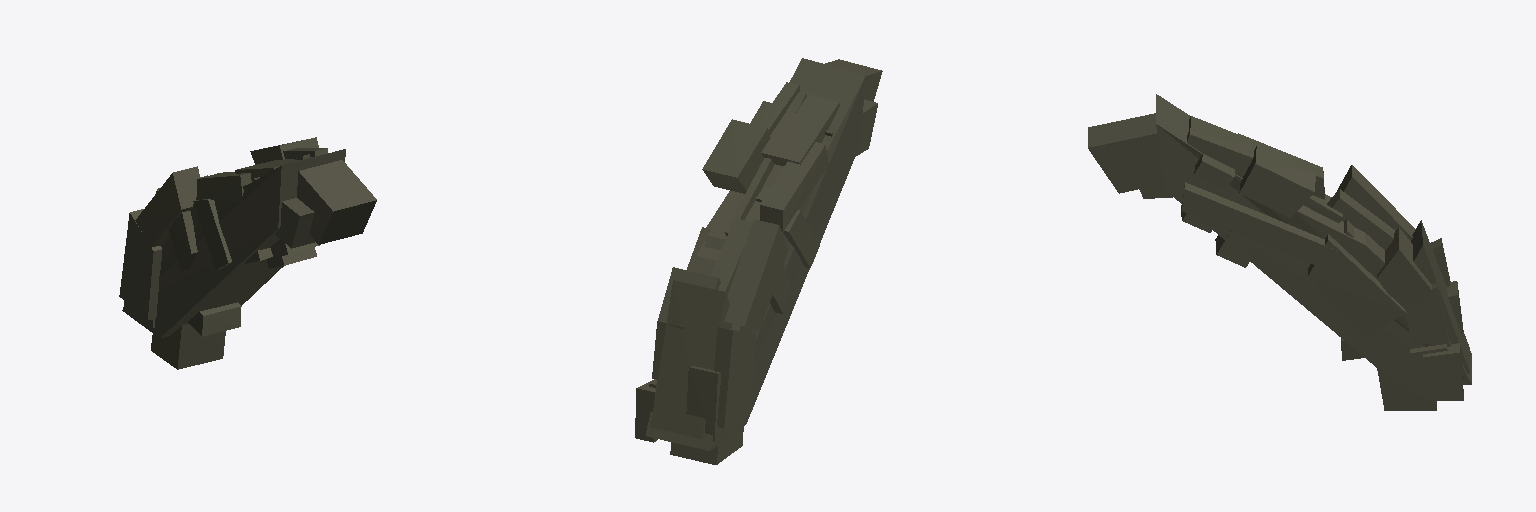
Rendered from zcube_pathcurveupdown01.obj.
3 views of the same model, side by side, from view 1: azimuth 30°, elevation 25°; view 2: azimuth 150°, elevation 25°; view 3: azimuth 270°, elevation 25° (orthographic).
Visible parts, largest first — view 1: zcube_pathcurveupdown01_Box001.038; view 2: zcube_pathcurveupdown01_Box001.038; view 3: zcube_pathcurveupdown01_Box001.038.
Part boxes in pixels (left/top/right/bottom): zcube_pathcurveupdown01_Box001.038: left=119, top=137, right=376, bottom=369; zcube_pathcurveupdown01_Box001.038: left=635, top=58, right=882, bottom=464; zcube_pathcurveupdown01_Box001.038: left=1088, top=94, right=1471, bottom=410.
Bounding box in the file's own units: 4.97 × 14.2 × 16.98.